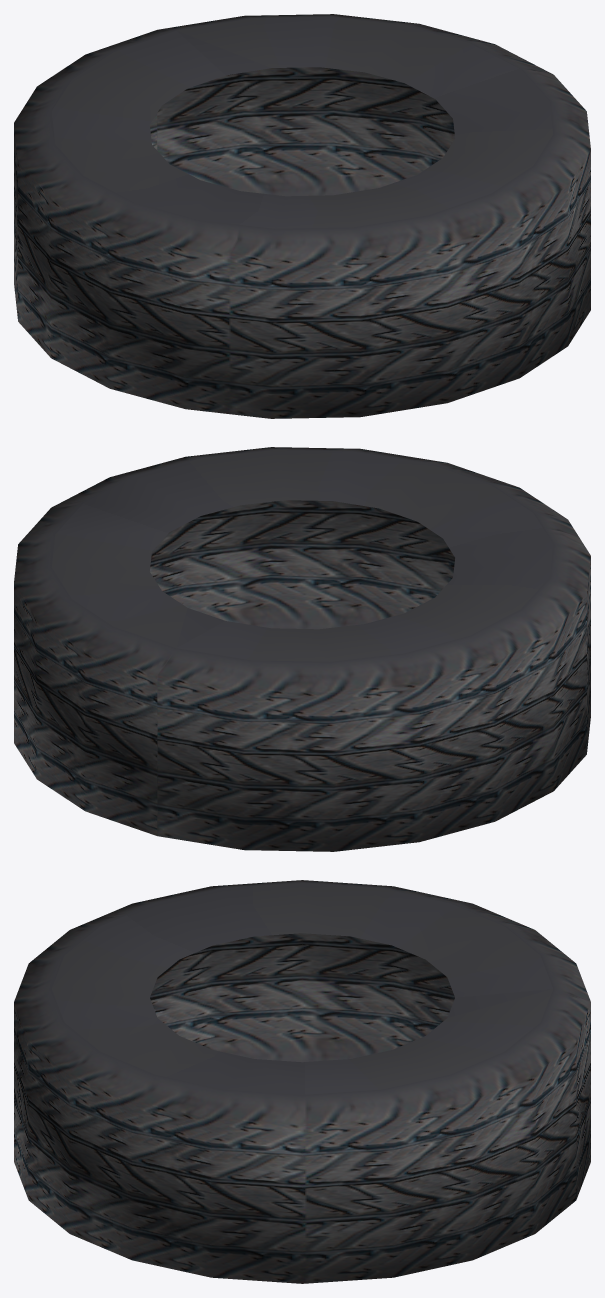
File: tire.obj
3 renders of one model, top to bottom at view 1: azimuth 30°, elevation 25°; view 2: azimuth 150°, elevation 25°; view 3: azimuth 270°, elevation 25°, orthographic.
Parts seen in each view (by area): view 1: Object02; view 2: Object02; view 3: Object02.
Boxes of the visible parts, left/top/right/bottom form: Object02: left=14, top=14, right=590, bottom=418; Object02: left=14, top=447, right=590, bottom=851; Object02: left=14, top=880, right=590, bottom=1283.
Bounding box in the file's own units: 0.7972 × 0.2838 × 0.7972.
2 materials, 2 textured.
